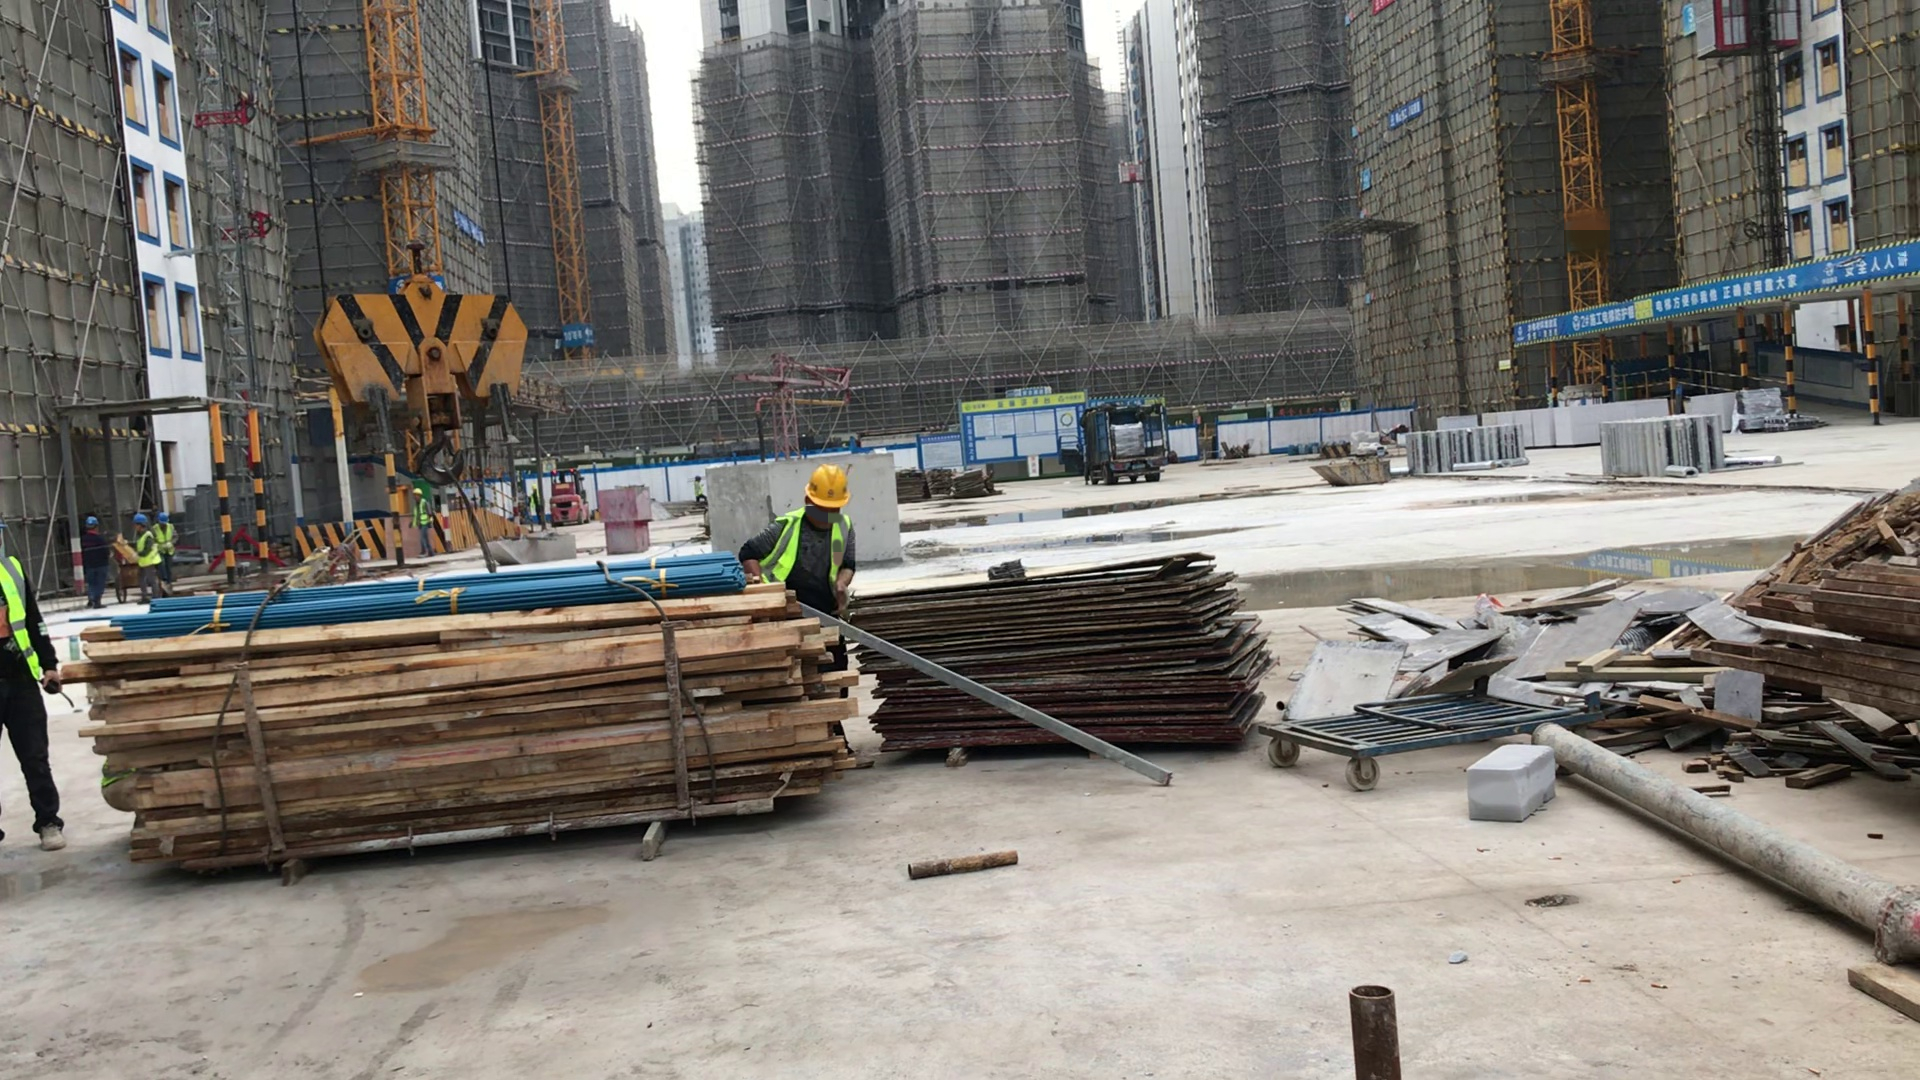helmet: (806, 463, 850, 510), (132, 513, 148, 528), (156, 511, 169, 525), (86, 516, 98, 529), (412, 489, 422, 495)
person: (748, 466, 858, 761), (6, 516, 66, 856), (126, 512, 157, 606), (85, 519, 106, 606), (409, 488, 432, 559), (155, 515, 178, 590)
vest: (763, 512, 850, 588), (1, 570, 46, 685), (137, 536, 158, 565), (156, 525, 173, 552), (413, 500, 427, 523)
